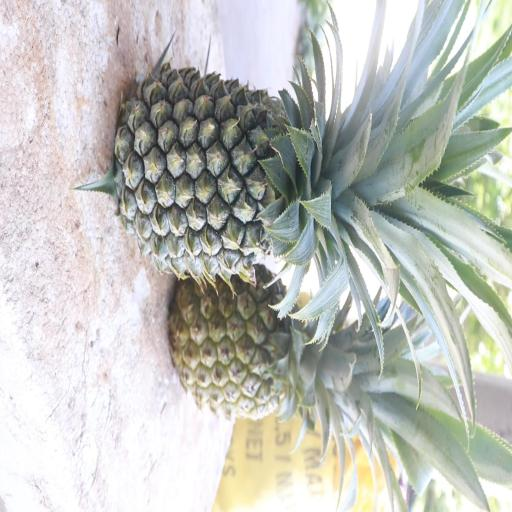------------------------------: (166, 246, 398, 426)
